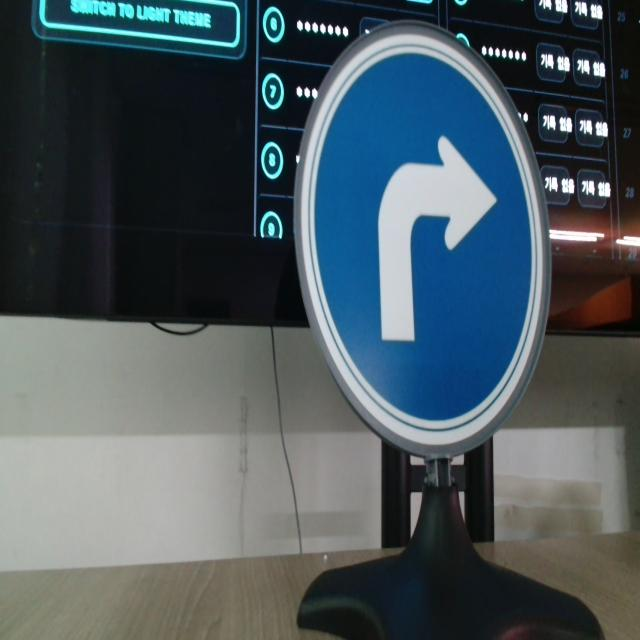right_dierection: (296, 0, 576, 550)
